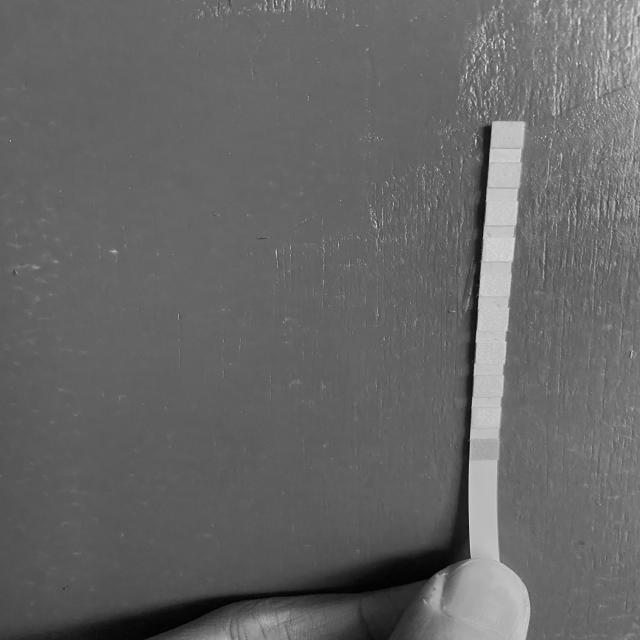Bilirubin: (472, 408, 500, 428)
Blood: (479, 310, 506, 330)
Glucose: (471, 440, 498, 460)
Ketone: (476, 376, 502, 397)
Leukocytes: (493, 122, 522, 147)
Nitrite: (490, 164, 518, 187)
Protein: (484, 238, 512, 260)
SpGravity: (477, 344, 504, 364)
Urobilinogen: (487, 203, 515, 224)
background: (0, 0, 640, 640)
pH: (481, 274, 508, 296)
strip: (468, 122, 525, 558)
